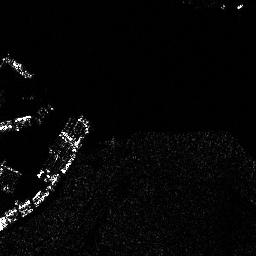ship: (1, 56, 33, 77), (1, 114, 32, 131)
